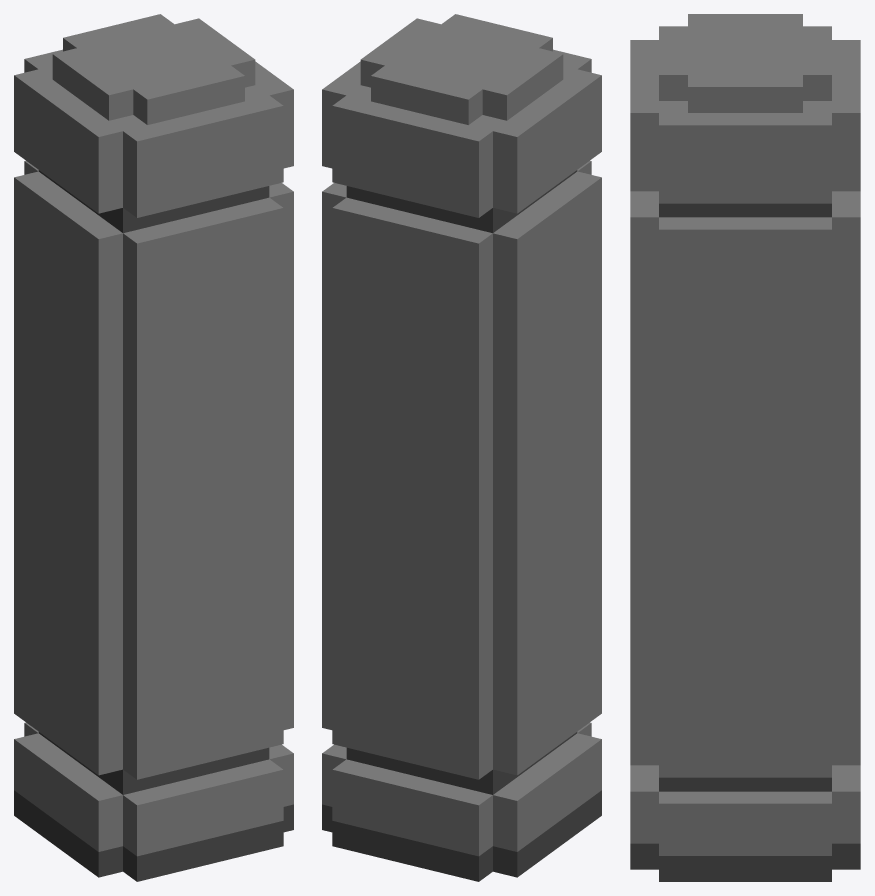
The model's file is Park_Fence_Pillar.glb.
The picture shows the model from 3 angles, left to right: view 1: azimuth 30°, elevation 25°; view 2: azimuth 150°, elevation 25°; view 3: azimuth 270°, elevation 25°; orthographic projection. The views are drawn at different scales.
Parts seen in each view (by area): view 1: Park_Fence_Pillar; view 2: Park_Fence_Pillar; view 3: Park_Fence_Pillar.
Boxes of the visible parts, left/top/right/bottom form: Park_Fence_Pillar: left=14, top=14, right=293, bottom=881; Park_Fence_Pillar: left=322, top=14, right=601, bottom=881; Park_Fence_Pillar: left=630, top=14, right=860, bottom=881.
Size of the model in its own units: 0.8 by 3 by 0.8.
Materials: 1 (1 with a texture image).
